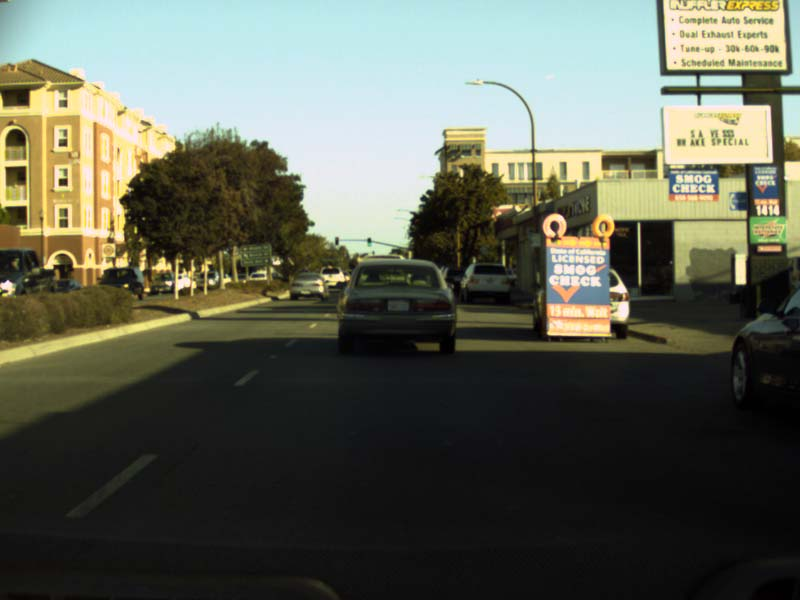Green: (367, 237, 370, 246)
Red: (335, 236, 337, 244)
